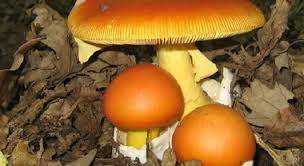wine glass: (101, 64, 183, 165)
